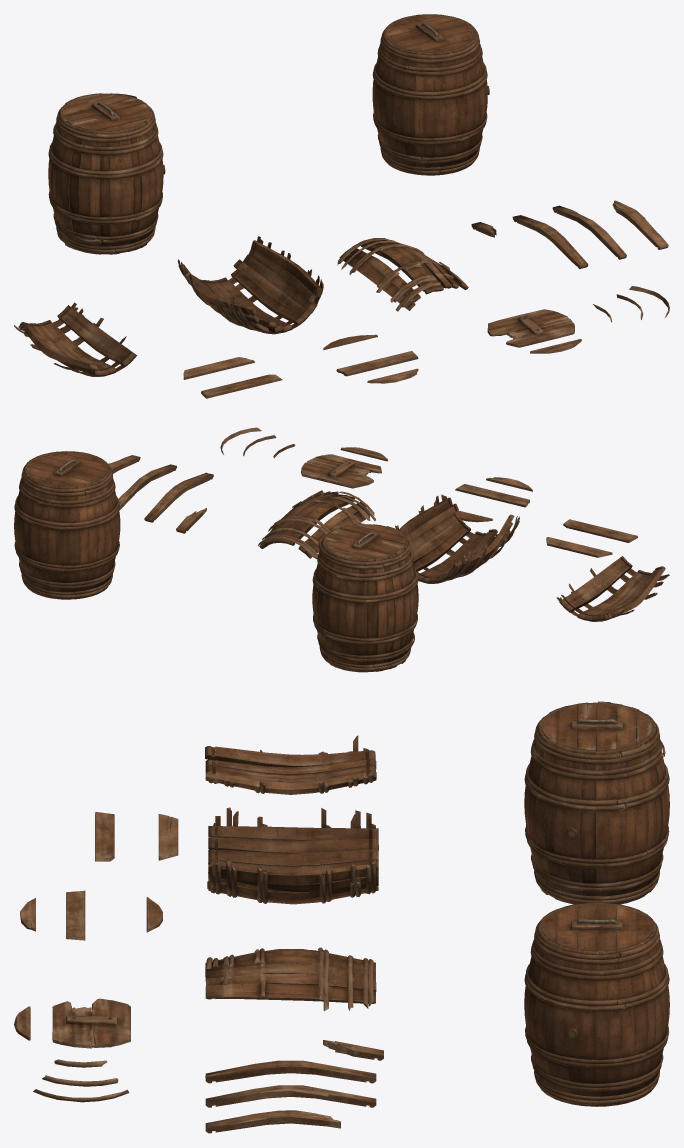
Rendered from wooden-barrels.glb.
3 views of the same model, one above another, from view 1: azimuth 30°, elevation 25°; view 2: azimuth 150°, elevation 25°; view 3: azimuth 270°, elevation 25° (orthographic). The views are drawn at different scales.
Visible parts, largest first — view 1: wooden_barrels_01_piece01, wooden_barrels_01_barrel02, wooden_barrels_01_barrel01; view 2: wooden_barrels_01_piece01, wooden_barrels_01_barrel02, wooden_barrels_01_barrel01; view 3: wooden_barrels_01_piece01, wooden_barrels_01_barrel01, wooden_barrels_01_barrel02.
Part boxes in pixels (box(x1,y1,x2,y2)): wooden_barrels_01_piece01: box(14, 200, 669, 398); wooden_barrels_01_barrel02: box(48, 93, 165, 254); wooden_barrels_01_barrel01: box(372, 14, 489, 175); wooden_barrels_01_piece01: box(108, 427, 669, 621); wooden_barrels_01_barrel02: box(312, 523, 418, 672); wooden_barrels_01_barrel01: box(14, 451, 120, 599); wooden_barrels_01_piece01: box(14, 735, 383, 1133); wooden_barrels_01_barrel01: box(524, 902, 669, 1106); wooden_barrels_01_barrel02: box(524, 701, 669, 904).
Size of the model in its own units: 4.44 by 0.9554 by 3.34.
Materials: 3 (3 with a texture image).
